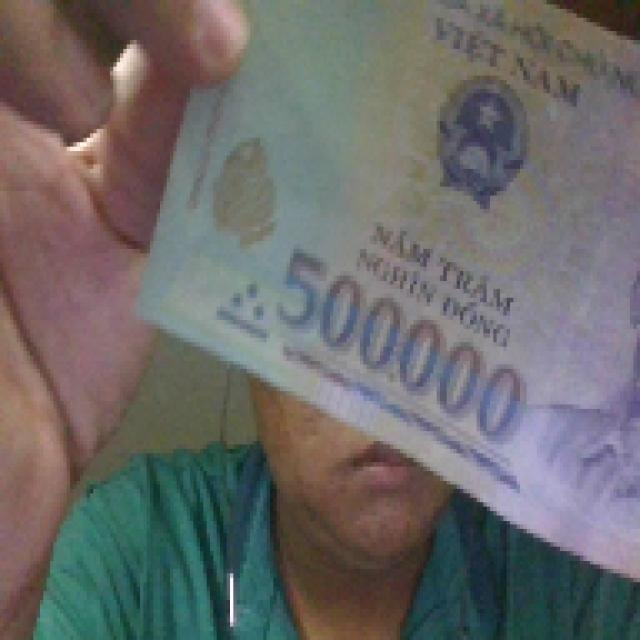500 000 VND: (130, 0, 637, 600)
